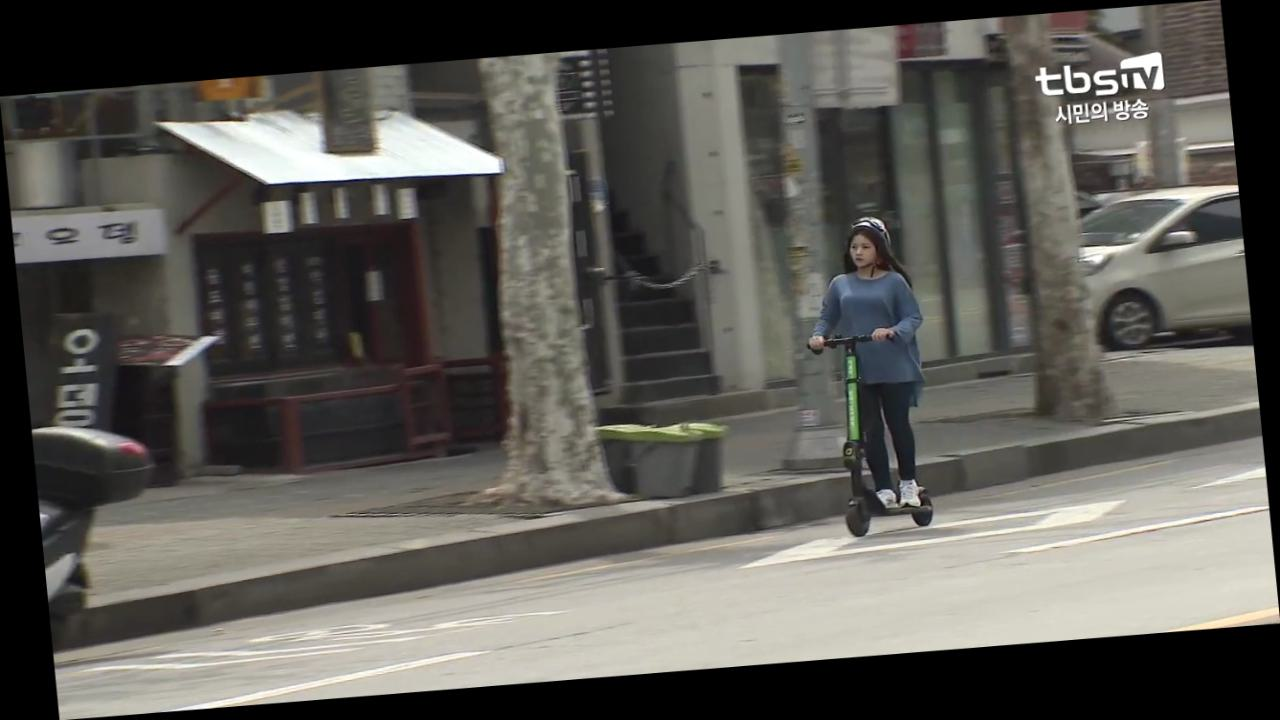helmet: (796, 212, 949, 539)
